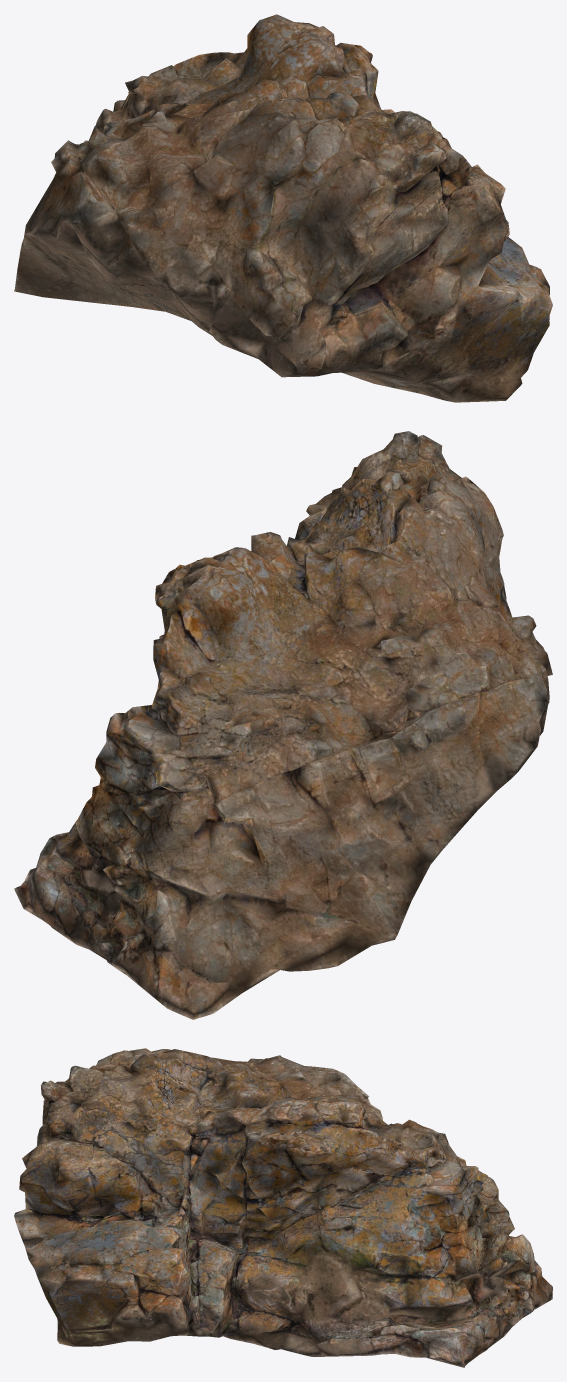
File: boulder_01.glb
The picture shows the model from 3 angles, top to bottom: view 1: azimuth 30°, elevation 25°; view 2: azimuth 150°, elevation 25°; view 3: azimuth 270°, elevation 25°; orthographic projection. The views are drawn at different scales.
Visible parts, largest first — view 1: boulder_01_LOD0; view 2: boulder_01_LOD0; view 3: boulder_01_LOD0.
Boxes of the visible parts, x1,y1,x2,y2 form: boulder_01_LOD0: (14, 14, 552, 402); boulder_01_LOD0: (14, 431, 552, 1019); boulder_01_LOD0: (14, 1048, 552, 1367).
Size of what is drawn, in the model's own units: 1.27 by 1 by 1.83.
Materials: 1 (1 with a texture image).
